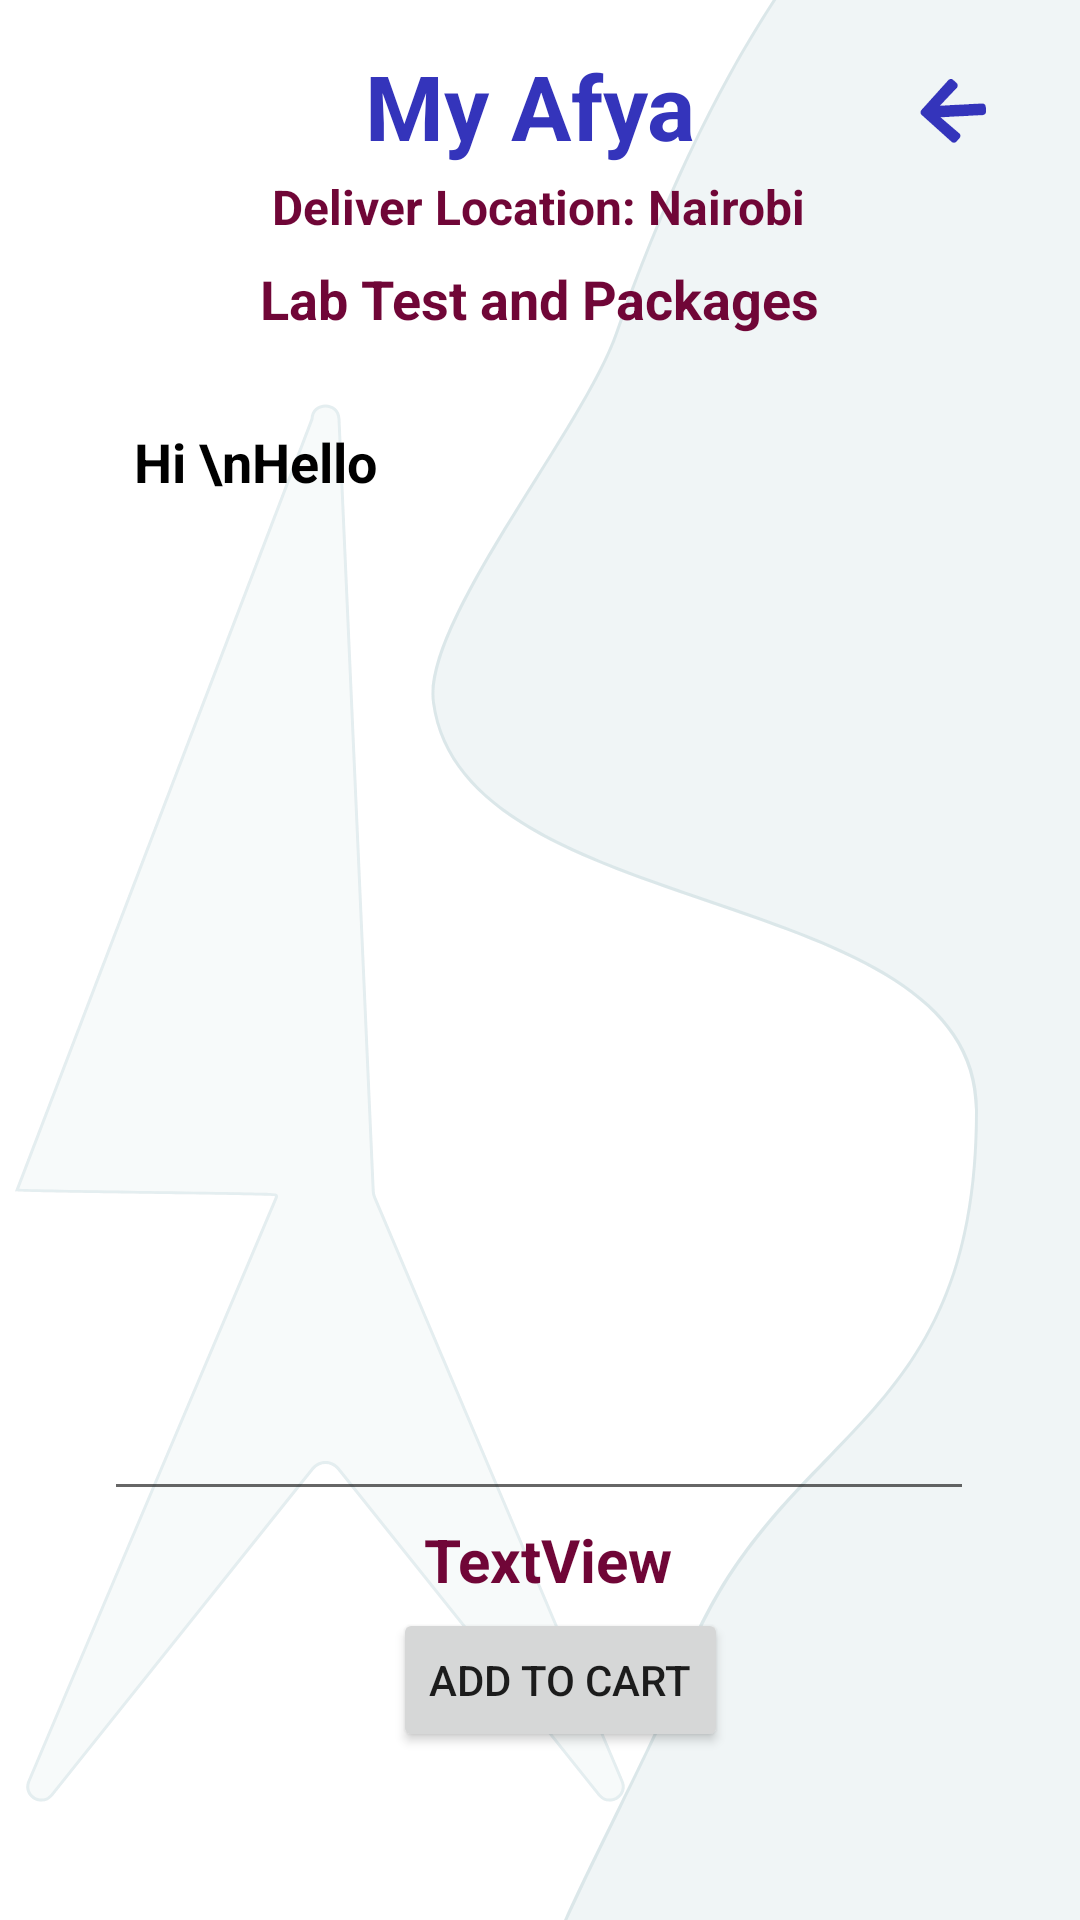

Named icons in this screenshot (1080px×1920px) and their bounding boxes, bbox=[x1, y1, x2, y2]:
bacck: bbox=[920, 79, 986, 143]
